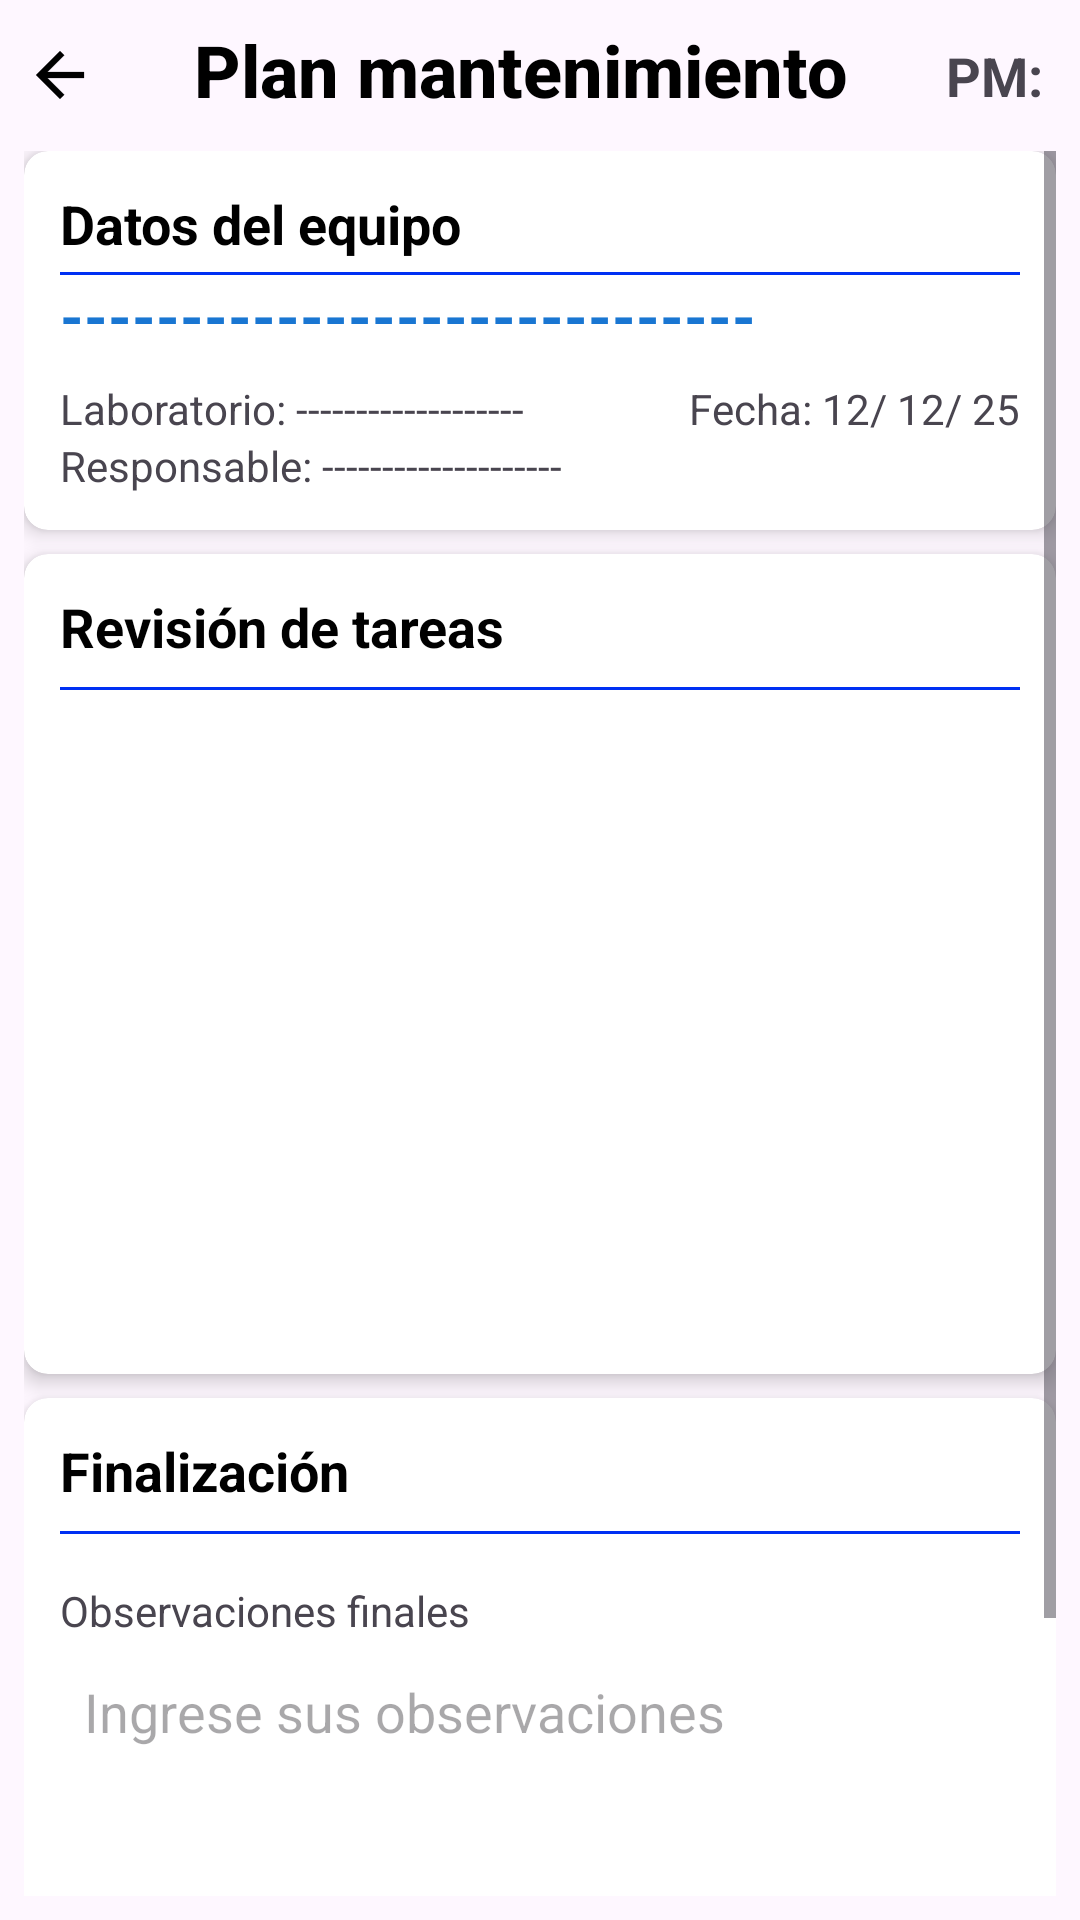

Icon bounding boxes for this 1080 x 1920 phone screenshot, format (x1, y1, x2, y2):
Volver: (36, 51, 85, 99)
